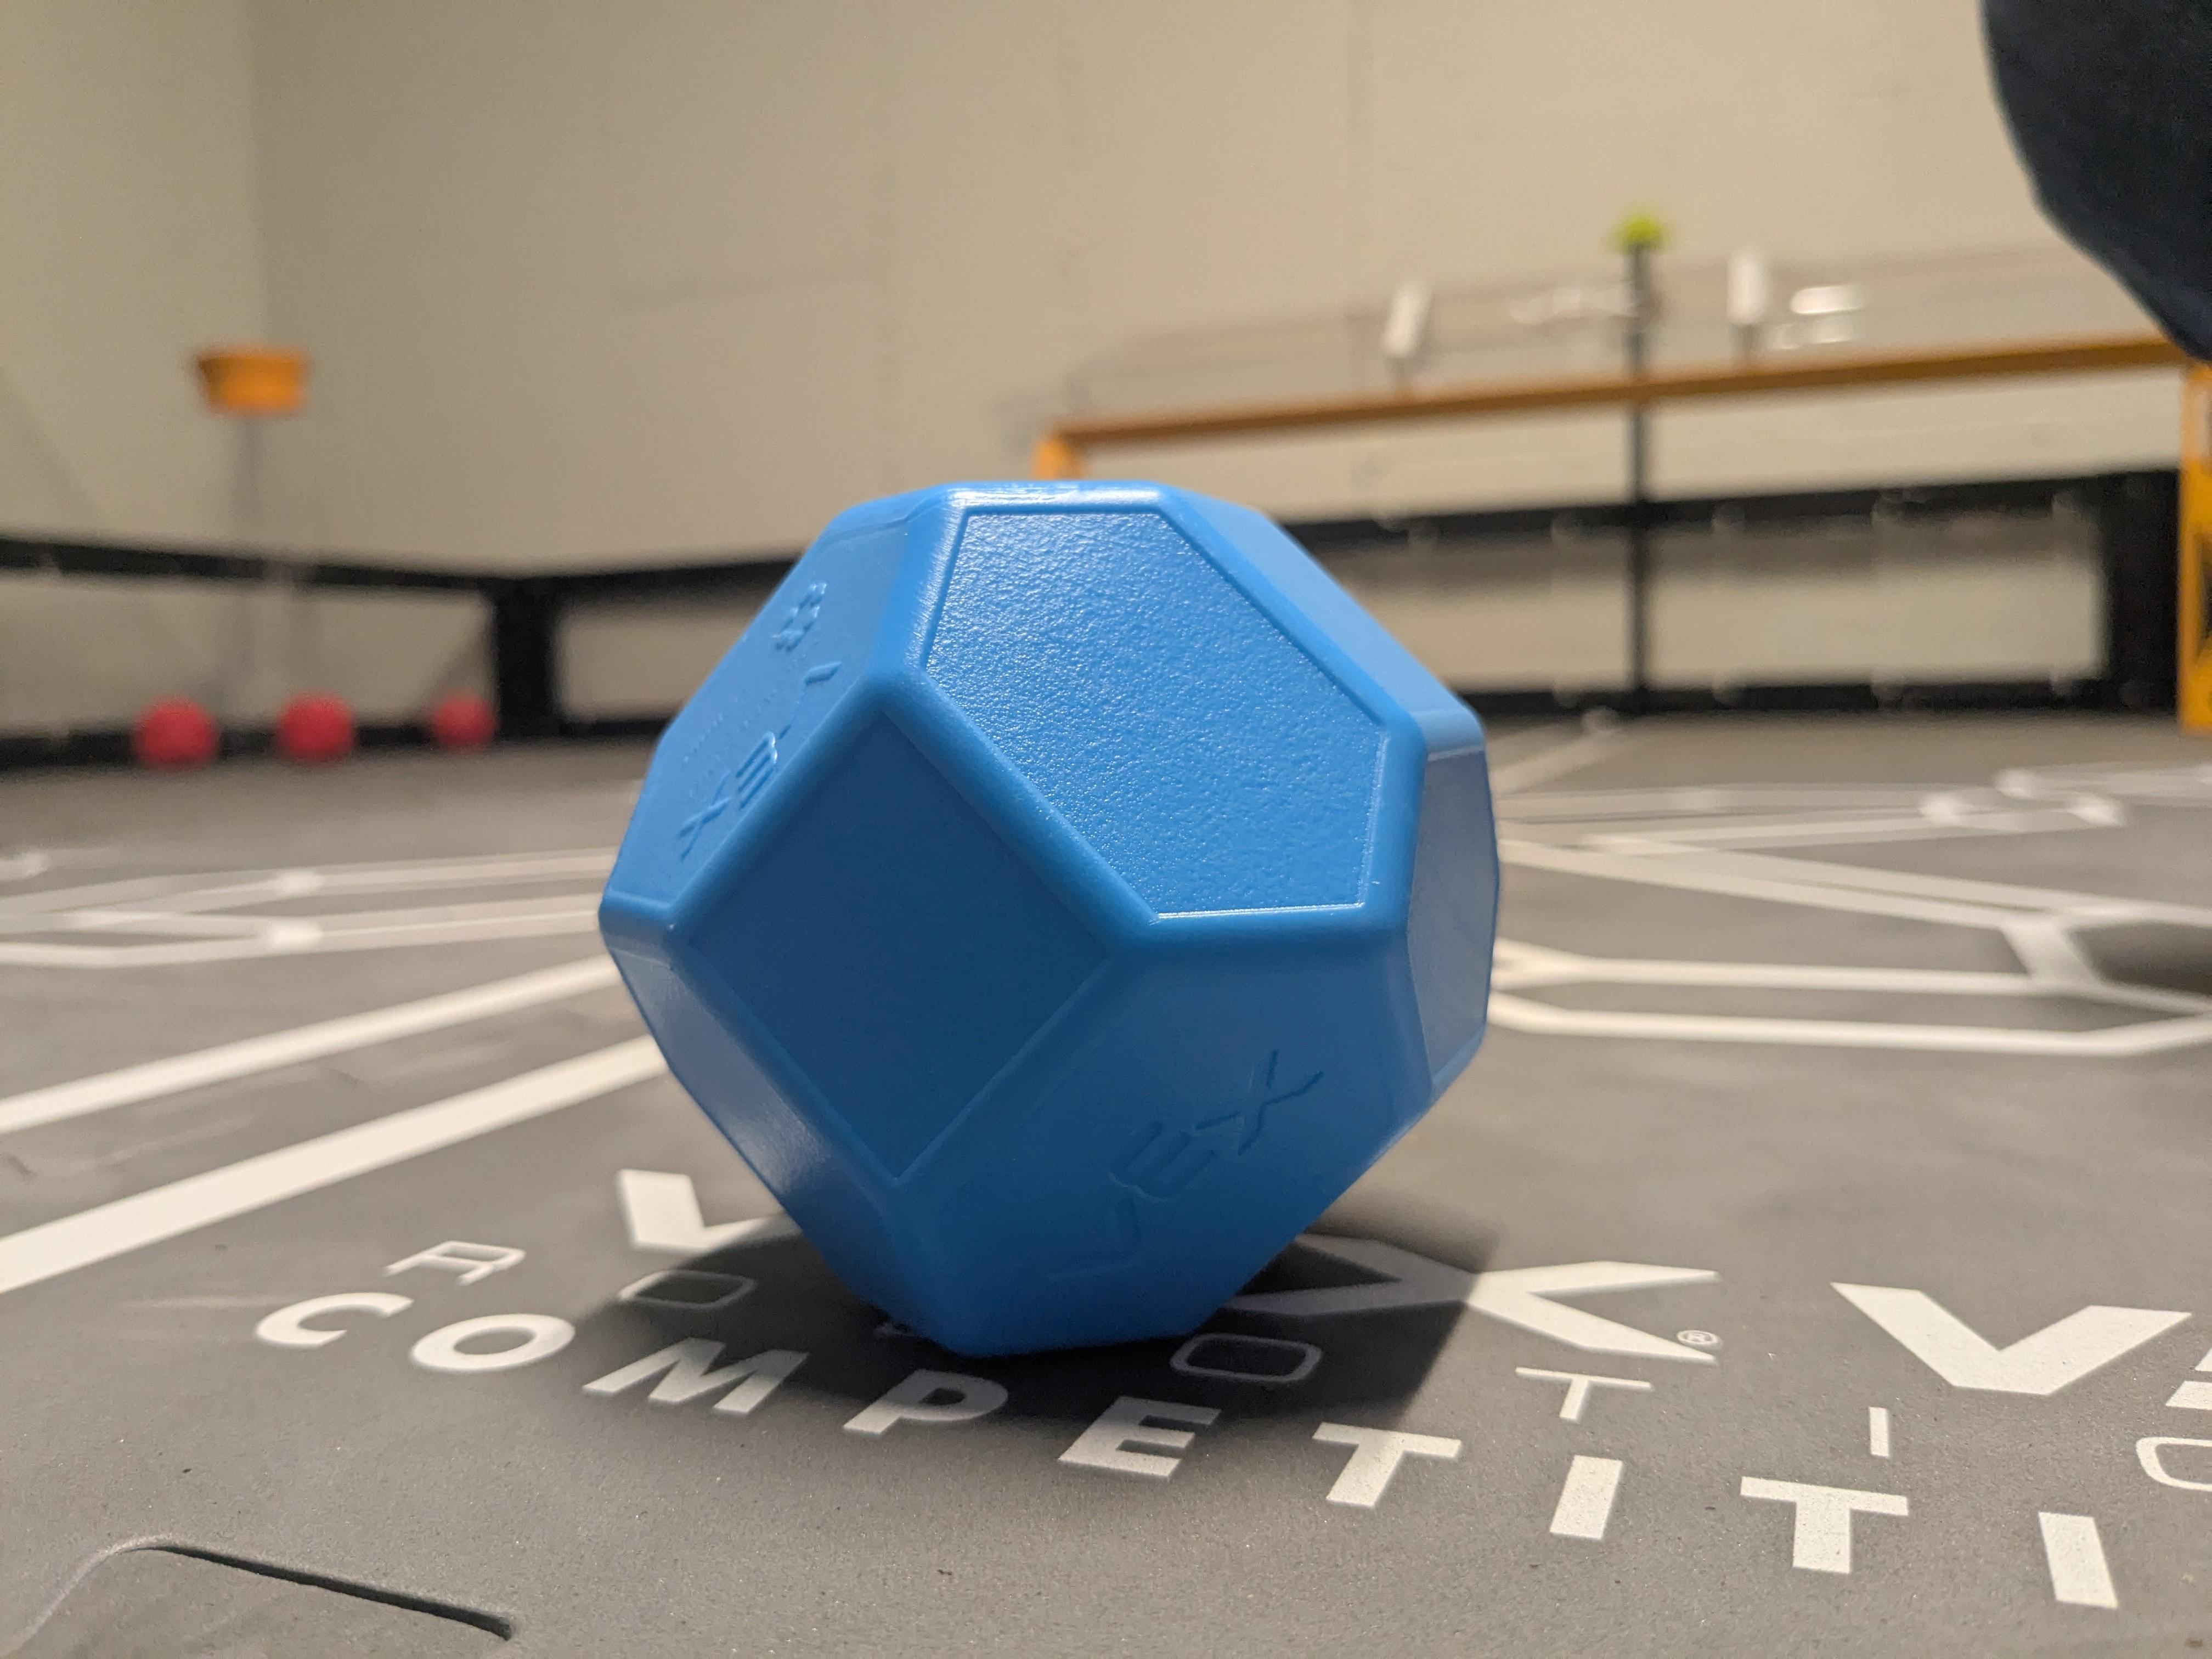Vex-Pieces-BLUE: (601, 481, 1500, 1387)
